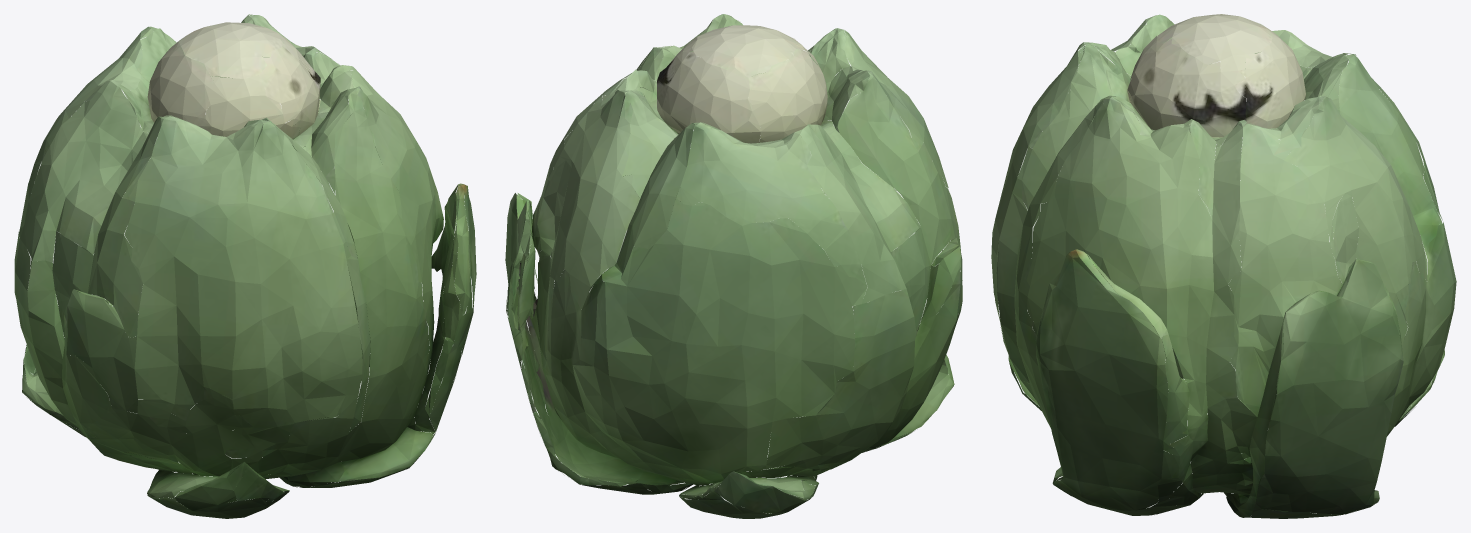
3 views of the same model, side by side, from view 1: azimuth 30°, elevation 25°; view 2: azimuth 150°, elevation 25°; view 3: azimuth 270°, elevation 25° (orthographic). The views are drawn at different scales.
Visible parts, largest first — view 1: world; view 2: world; view 3: world.
Boxes of the visible parts, x1,y1,x2,y2 form: world: (14, 14, 476, 518); world: (505, 14, 962, 518); world: (991, 14, 1456, 518).
Bounding box in the file's own units: 0.9598 × 0.9988 × 0.935.
Materials: 1 (1 with a texture image).
